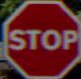Stop: (2, 8, 75, 66)
